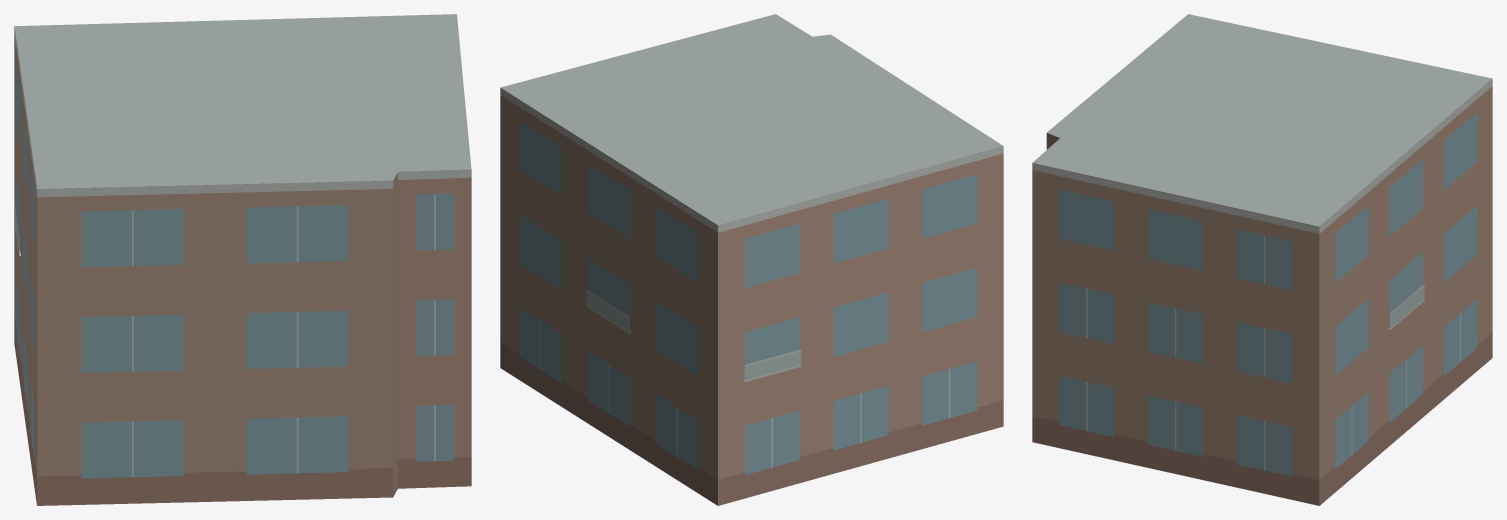
File: survey-upis-32921731.glb
The picture shows the model from 3 angles, left to right: view 1: azimuth 30°, elevation 25°; view 2: azimuth 150°, elevation 25°; view 3: azimuth 270°, elevation 25°; orthographic projection. The views are drawn at different scales.
Visible parts, largest first — view 1: survey-upis-32921731.tmp; view 2: survey-upis-32921731.tmp; view 3: survey-upis-32921731.tmp.
Boxes of the visible parts, x1=… form: survey-upis-32921731.tmp: x1=14, y1=14, x2=471, y2=505; survey-upis-32921731.tmp: x1=500, y1=14, x2=1003, y2=505; survey-upis-32921731.tmp: x1=1032, y1=14, x2=1492, y2=505.
Size of the model in its own units: 15.19 by 9.3 by 13.9.
